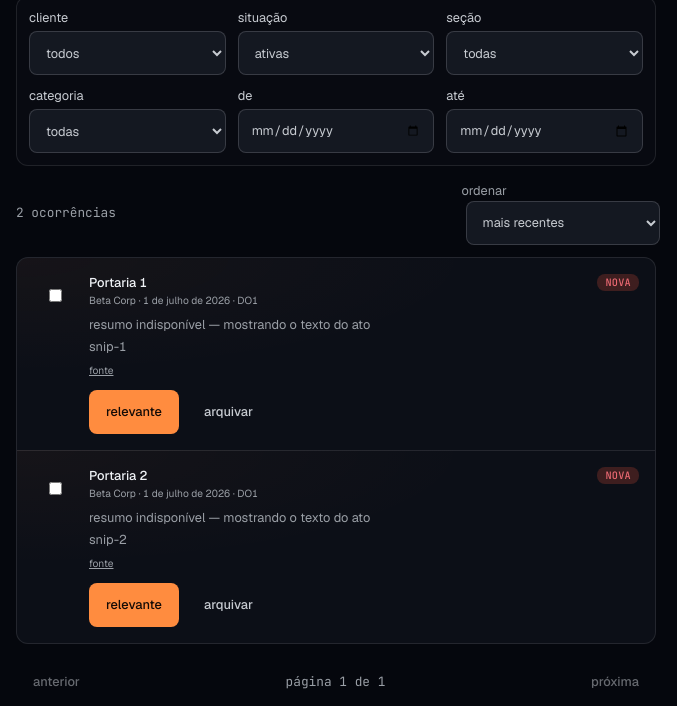
dismissing a match removes it from the default feed and lowers the count
(page scrolled)
Expected: the text "snip-1" is shown, [89,338,127,355]
Expected: the text "2 ocorrências" is shown, [16,204,116,223]
Click the button "arquivar" below "snip-1": (228, 412) [187,390,270,434]
(page scrolled)
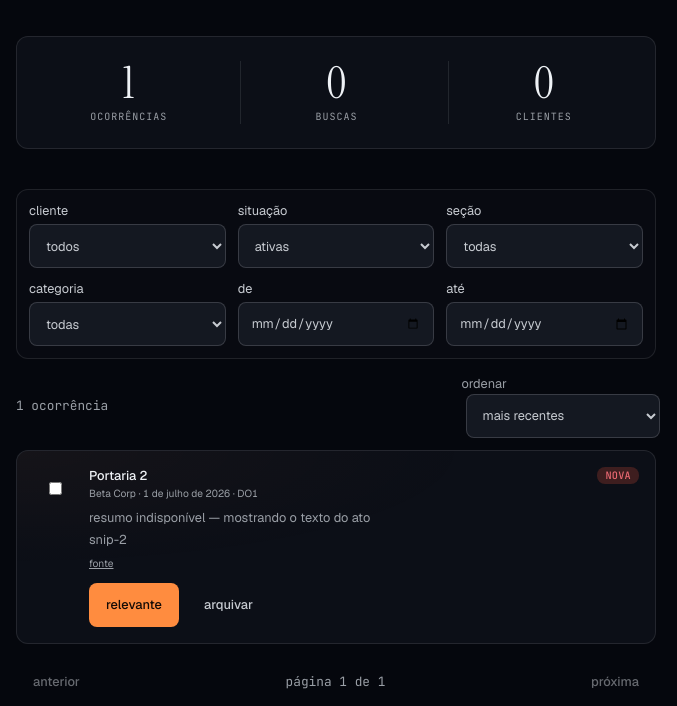
Expected: the text "snip-2" is shown, [89,531,127,548]
Expected: the text "snip-1" is gone
Expected: the text "1 ocorrência" is shown, [16,397,108,416]
